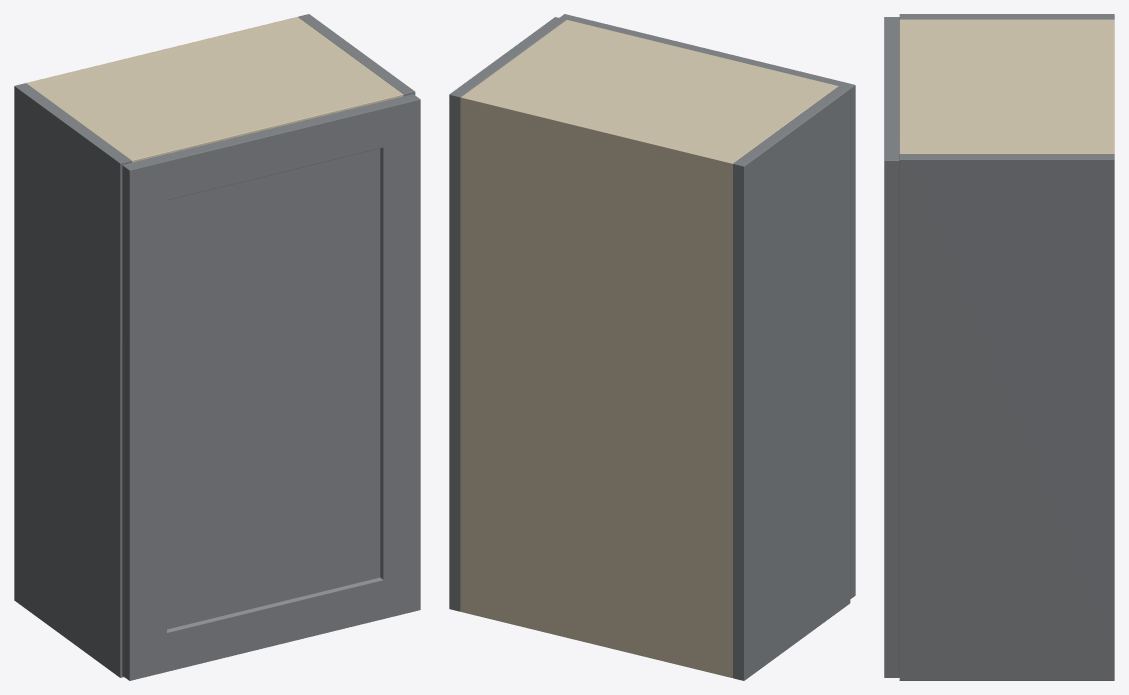
Rendered from oppein-ply-gss-w1830.glb.
The picture shows the model from 3 angles, left to right: view 1: azimuth 30°, elevation 25°; view 2: azimuth 150°, elevation 25°; view 3: azimuth 270°, elevation 25°; orthographic projection.
Parts seen in each view (by area): view 1: Door, Cabinet side, Cabinet top, Cabinet side.001, Cabinet back; view 2: Cabinet back, Cabinet side, Cabinet top, Cabinet side.001, Door; view 3: Cabinet side.001, Cabinet top, Door, Cabinet side, Cabinet back.
Boxes of the visible parts, left/top/right/bottom form: Door: left=122, top=94, right=420, bottom=680; Cabinet side: left=14, top=83, right=131, bottom=677; Cabinet top: left=26, top=17, right=403, bottom=162; Cabinet side.001: left=298, top=14, right=415, bottom=96; Cabinet back: left=27, top=17, right=300, bottom=85; Cabinet back: left=461, top=94, right=736, bottom=677; Cabinet side: left=732, top=86, right=850, bottom=680; Cabinet top: left=461, top=20, right=838, bottom=172; Cabinet side.001: left=449, top=17, right=566, bottom=611; Door: left=559, top=14, right=855, bottom=598; Cabinet side.001: left=899, top=154, right=1114, bottom=680; Cabinet top: left=899, top=19, right=1114, bottom=153; Door: left=884, top=17, right=899, bottom=677; Cabinet side: left=899, top=14, right=1114, bottom=19; Cabinet back: left=1106, top=19, right=1114, bottom=153.
Size of the model in its own units: 0.4572 by 0.762 by 0.3048.
